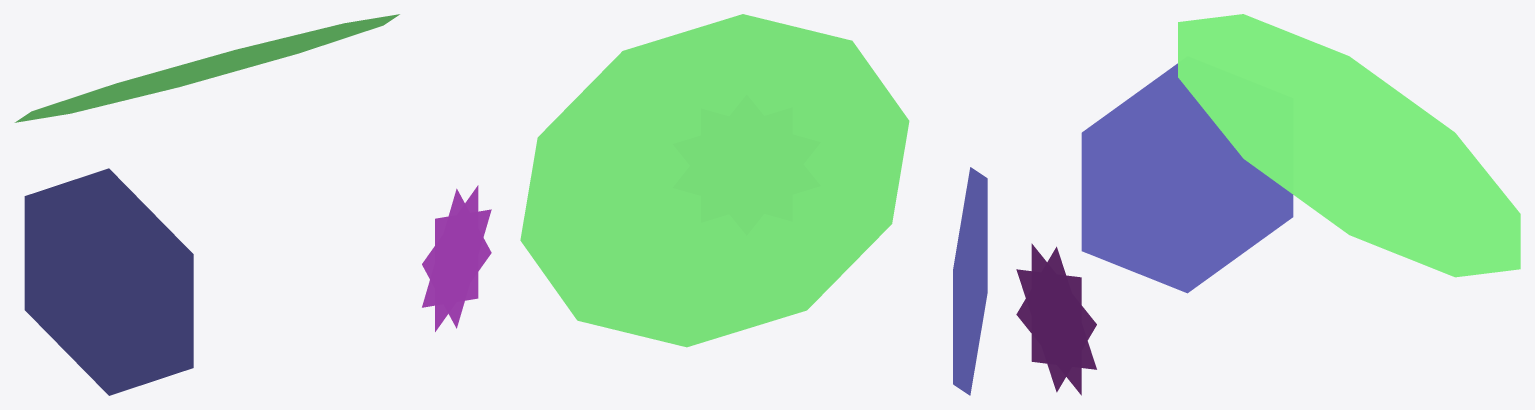
The model's file is IcositruncatedDodecadodecahedronF.obj.
The picture shows the model from 3 angles, left to right: view 1: azimuth 30°, elevation 25°; view 2: azimuth 150°, elevation 25°; view 3: azimuth 270°, elevation 25°; orthographic projection. The views are drawn at different scales.
Bounding box in the file's own units: 3.55 × 2.81 × 3.85.
